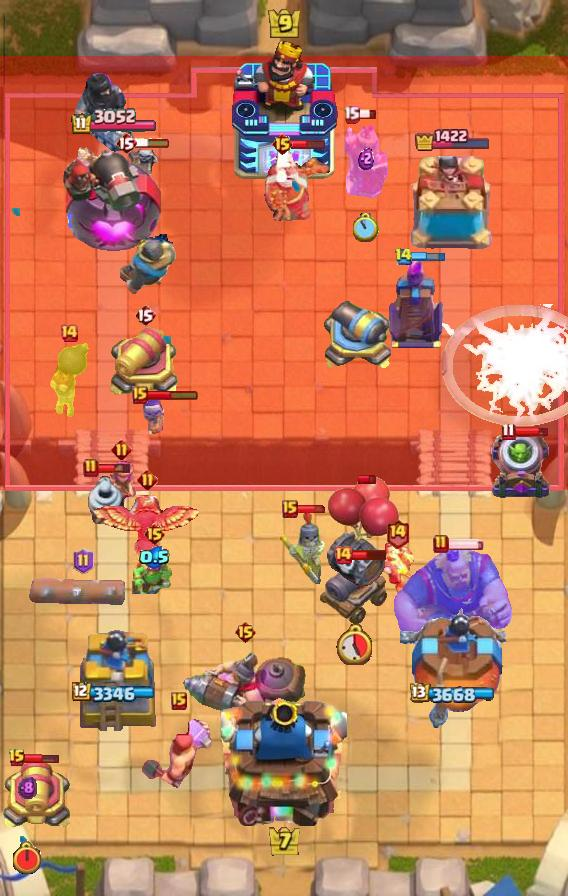barbarian-evolution: (442, 304, 568, 426)
bowler: (377, 541, 417, 599)
cannon: (104, 461, 138, 507)
electro-spirit: (139, 546, 170, 570), (19, 776, 38, 800), (358, 146, 374, 169)
elixir: (336, 623, 372, 665), (11, 840, 43, 875), (353, 213, 379, 242)
elixir-collector: (259, 144, 331, 224)
elixir-golem-big: (342, 117, 390, 201)
emote: (146, 389, 199, 401), (351, 548, 388, 561), (447, 538, 485, 550), (135, 137, 171, 149), (513, 426, 549, 438), (290, 138, 325, 150), (96, 462, 131, 474), (410, 250, 446, 261), (24, 752, 60, 763), (296, 504, 328, 514), (357, 108, 377, 120), (358, 474, 377, 485)
firecracker: (120, 234, 178, 294)
giant-snowball: (132, 550, 176, 594)
goblin: (139, 396, 171, 438)
goblin-cage: (488, 431, 552, 501)
goblin-drill: (81, 470, 129, 524)
golden-knight: (91, 493, 203, 573)
heal-spirit: (127, 145, 159, 177)
ice-golem: (45, 337, 93, 419)
ice-spirit-evolution-symbol: (386, 258, 446, 350)
inferno-dragon: (73, 70, 137, 154)
king-tower: (221, 690, 347, 826), (230, 41, 338, 181)
lightning: (392, 548, 513, 654)
mighty-miner: (142, 711, 216, 793)
minion: (29, 574, 137, 610)
princess: (277, 508, 327, 584)
queen-tower: (400, 603, 506, 731), (64, 621, 164, 731), (407, 156, 499, 256)
royal-giant-evolution: (319, 552, 389, 626)
royal-recruit: (322, 290, 394, 374), (109, 326, 181, 400), (0, 759, 72, 833)
royal-recruit-evolution: (323, 476, 401, 590)
selected: (70, 108, 158, 136), (411, 683, 498, 705), (414, 128, 492, 152), (71, 682, 156, 704)
text: (385, 518, 410, 549), (271, 132, 294, 156), (143, 522, 166, 546), (235, 620, 258, 644), (73, 548, 94, 574), (115, 131, 137, 155), (134, 303, 156, 327), (112, 439, 133, 461), (137, 469, 158, 490), (59, 323, 79, 343), (333, 545, 353, 565), (395, 246, 414, 265), (8, 748, 26, 768), (83, 458, 99, 478), (433, 534, 449, 554), (343, 105, 360, 123), (132, 386, 148, 404), (282, 500, 298, 518), (171, 692, 187, 710), (501, 423, 515, 441)
tower-bar: (63, 136, 165, 256)
wizard: (182, 648, 308, 722)
